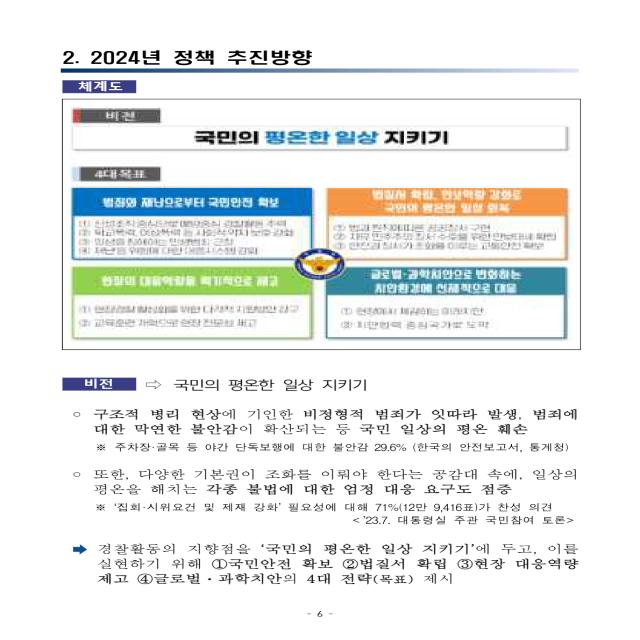image: (63, 100, 579, 350), (144, 378, 166, 394)
text: (74, 410, 588, 594), (176, 376, 368, 395), (65, 376, 130, 392), (64, 81, 134, 93)
title: (52, 44, 321, 74)
